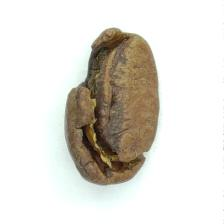NG: (66, 29, 149, 174)
